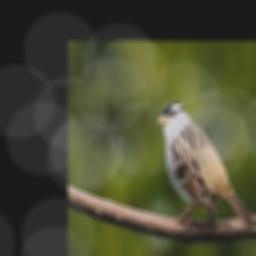Sparrow: (158, 101, 256, 235)
